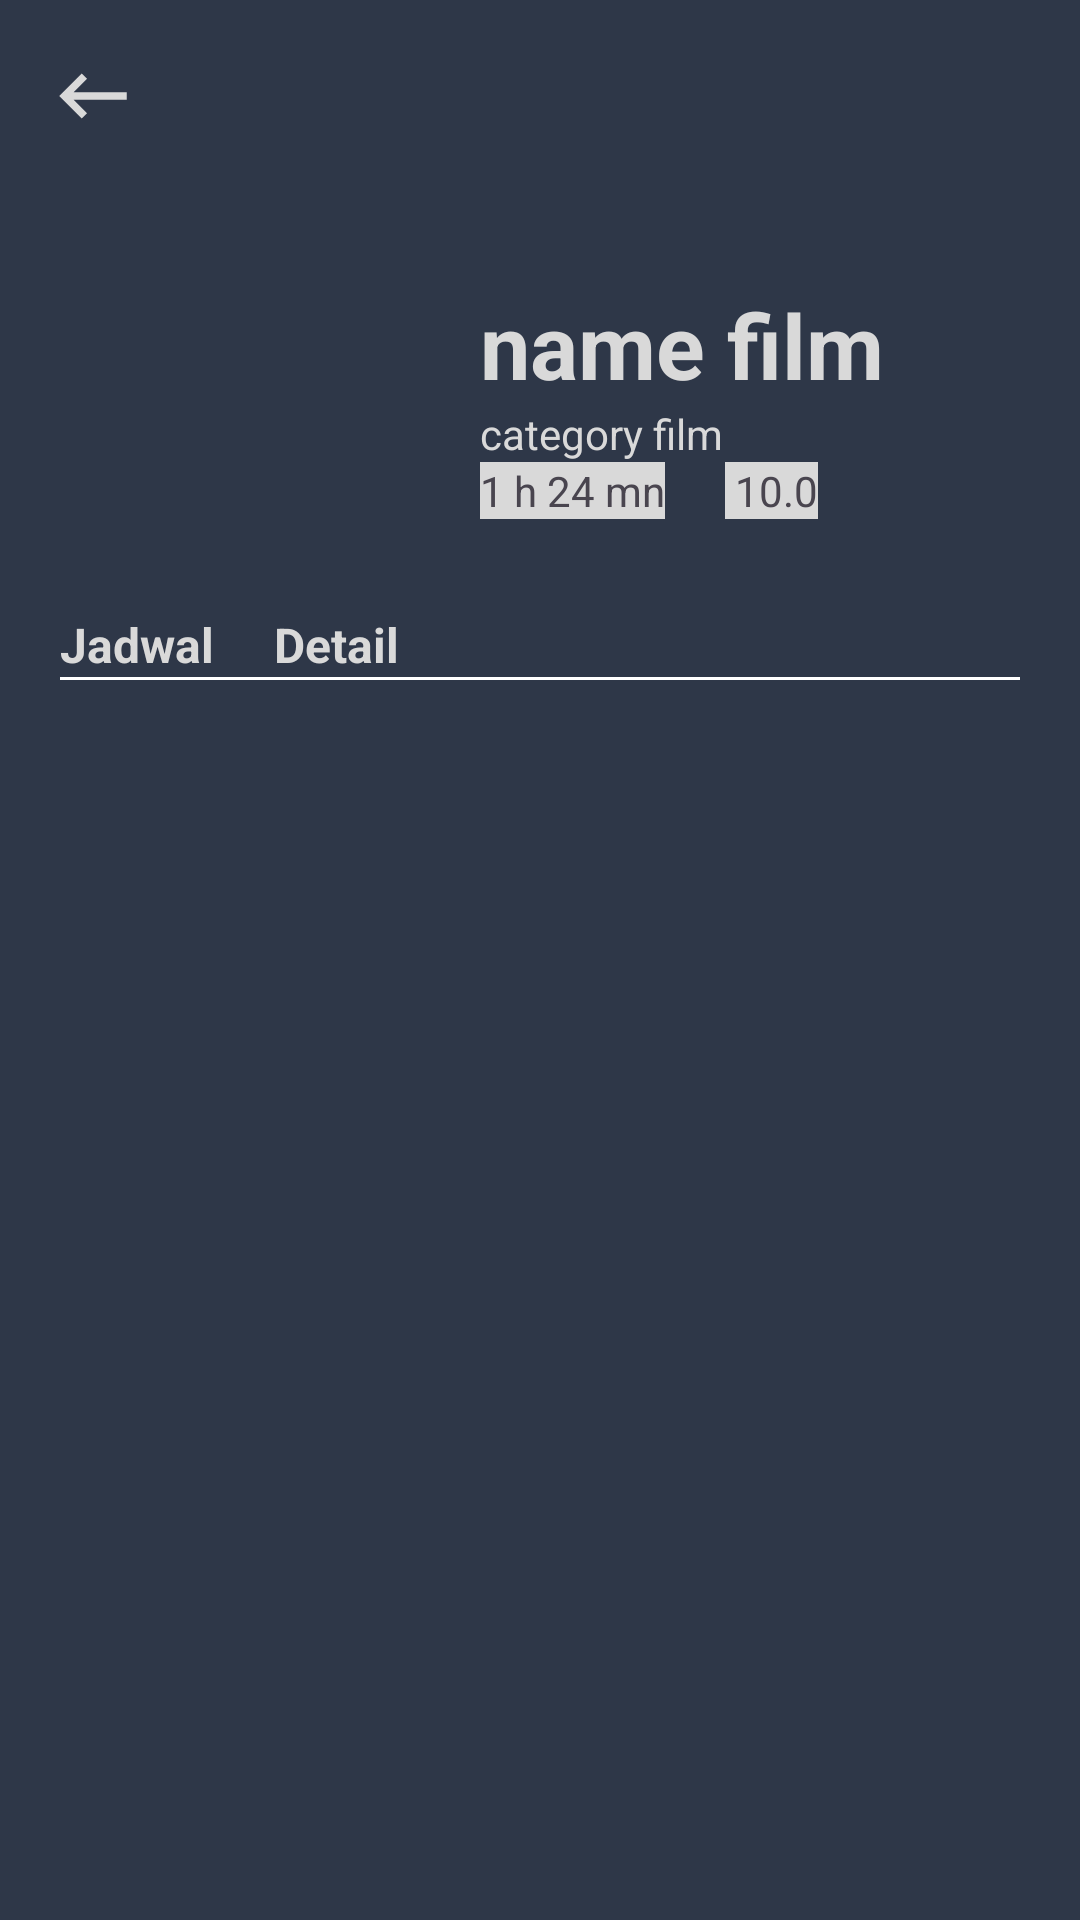

Where to tap for icons on this 1080*1920 app screen, as point (x, y):
keyboard backspace: point (93, 96)
